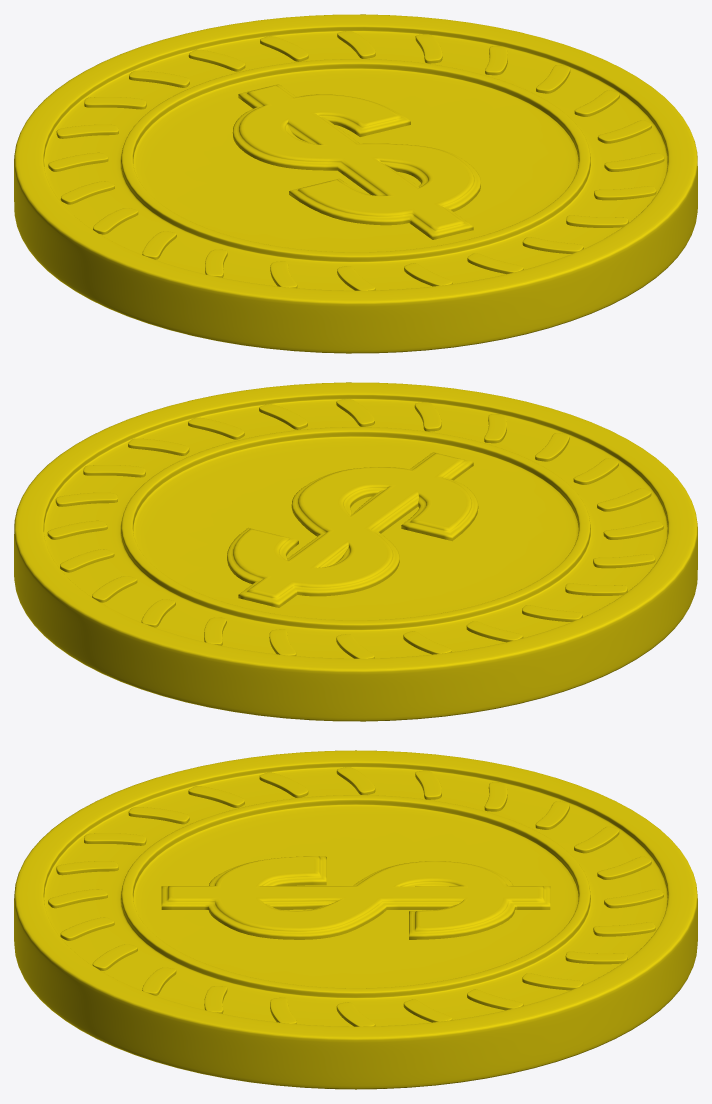
File: goldfbx.fbx
3 views of the same model, one above another, from view 1: azimuth 30°, elevation 25°; view 2: azimuth 150°, elevation 25°; view 3: azimuth 270°, elevation 25° (orthographic).
Visible parts, largest first — view 1: polySurface16; view 2: polySurface16; view 3: polySurface16.
Part boxes in pixels (x1,y1,x2,y2): polySurface16: [14, 14, 697, 353]; polySurface16: [14, 382, 697, 721]; polySurface16: [14, 750, 697, 1089].
Bounding box in the file's own units: 4.68 × 0.4198 × 4.68.
